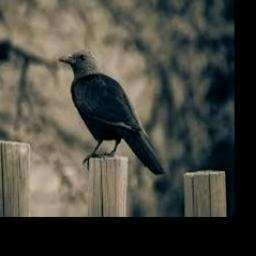Crow: (59, 49, 167, 175)
